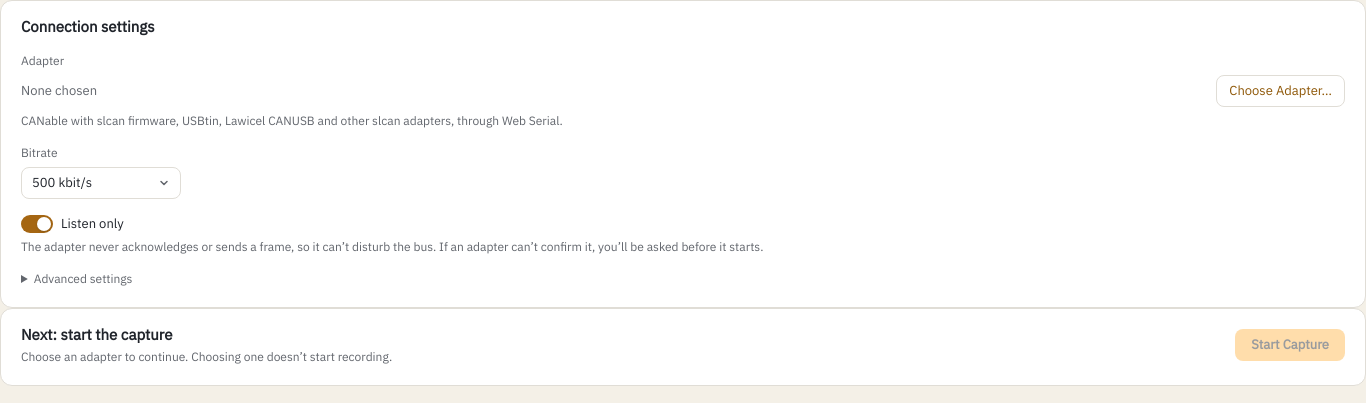
Test: LiveSetup › holds Start back until an adapter is chosen, and choosing one records nothing
Expected: the button "Start Capture" is disabled, [1235,329,1345,361]
Click the button "Choose Adapter…": [1281, 91] box [1216,75,1345,107]
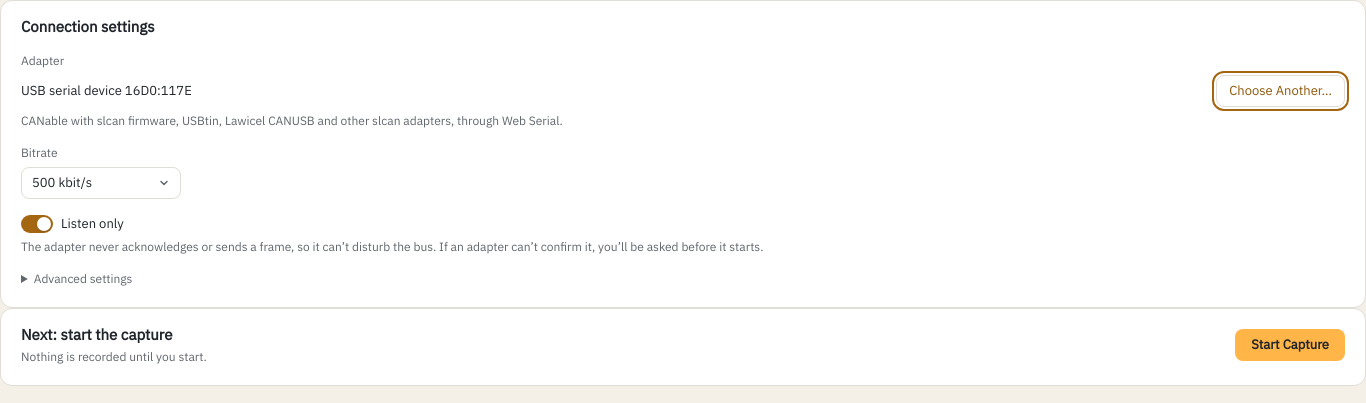
Now the text "Nothing is recorded until you start." is shown, box [21,349,207,364]
Now the button "Start Capture" is enabled, box [1235,329,1345,361]
